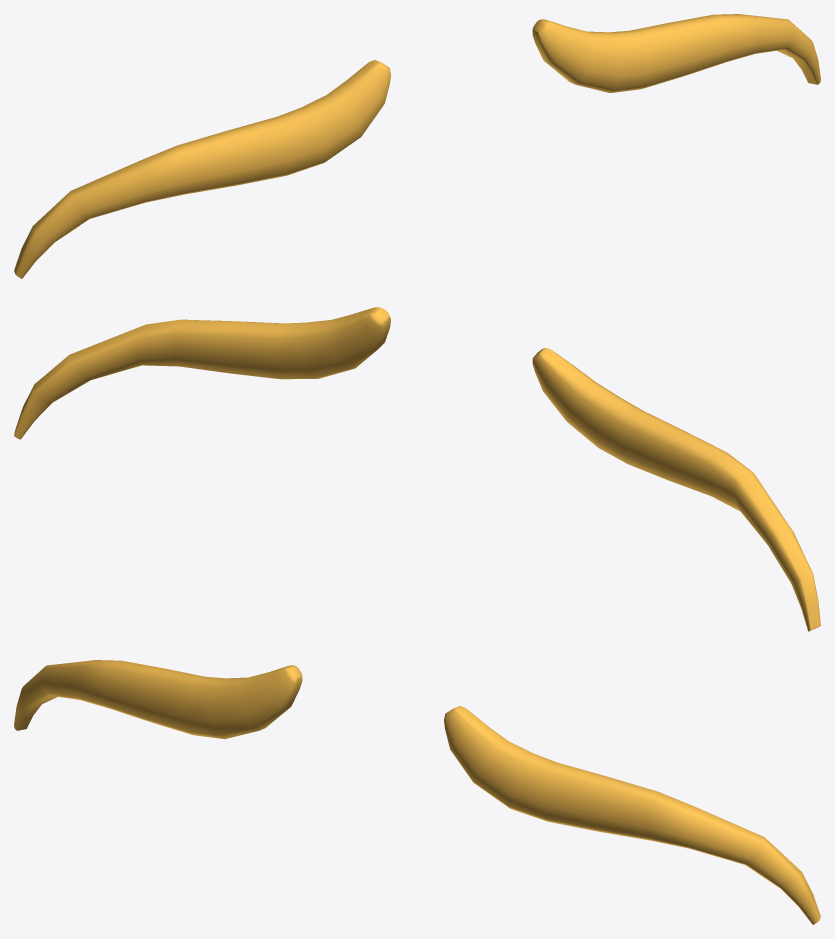
File: Eyebrows_21_05.fbx
3 renders of one model, top to bottom at view 1: azimuth 30°, elevation 25°; view 2: azimuth 150°, elevation 25°; view 3: azimuth 330°, elevation 25°, orthographic.
Parts seen in each view (by area): view 1: Eyebrows_21_05; view 2: Eyebrows_21_05; view 3: Eyebrows_21_05.
Part boxes in pixels (<box>): Eyebrows_21_05: <box>14,14,820,278</box>; Eyebrows_21_05: <box>14,307,820,631</box>; Eyebrows_21_05: <box>14,660,820,924</box>.
Bounding box in the file's own units: 18.62 × 3.81 × 2.44.
